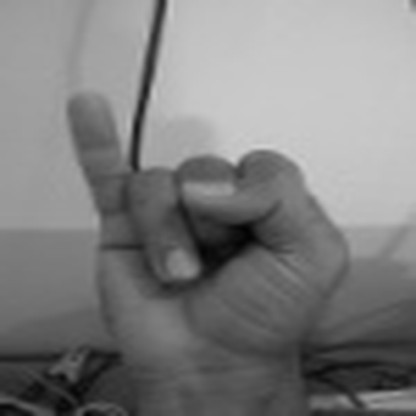i: (57, 84, 356, 378)
